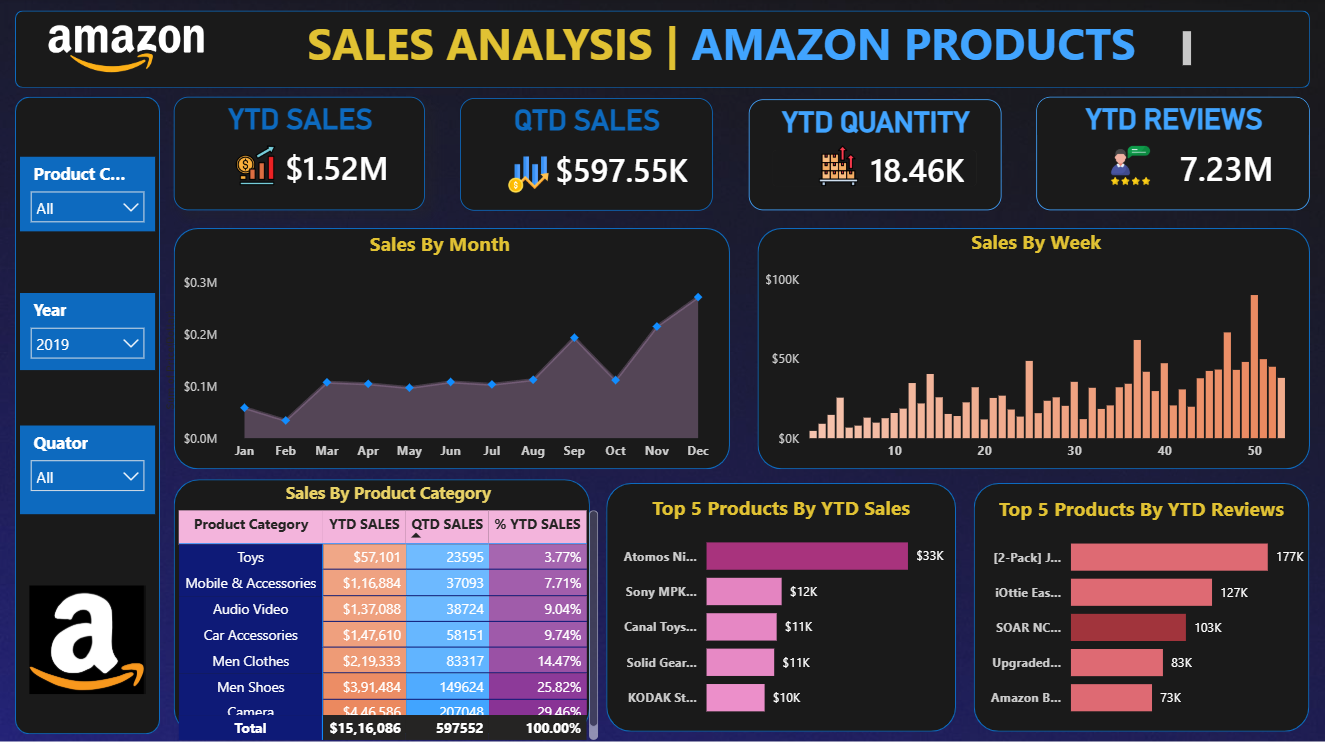

What the dashboard file says about the page in this screenshot:
{"tool":"powerbi","page":{"name":"Page 1","canvas":[1280,720],"ordinal":0},"visuals":[{"type":"shape","box":[14.5,12.1,1249.9,74.8],"z":0},{"type":"textbox","box":[292,4.8,862.6,74.8],"z":1000},{"type":"shape","box":[14.5,95.3,139.9,615.3],"z":2000},{"type":"cardVisual","title":"YTD SALES","fields":{"Data":["Amazon_Data.YTD SALES"]},"box":[167.7,95.3,242.5,109.8],"z":3000},{"type":"cardVisual","title":"QTD SALES","fields":{"Data":["Amazon_Data.QTD SALES"]},"box":[444,96.5,243.7,108.6],"z":4000},{"type":"cardVisual","title":"YTD QUANTITY","fields":{"Data":["Amazon_Data.YTD PRODUCT SOLD"]},"box":[722.7,97.7,243.7,107.4],"z":5000},{"type":"cardVisual","title":"YTD REVIEWS","fields":{"Data":["Amazon_Data.YTD REVIEWS"]},"box":[1000.1,95.3,264.2,109.8],"z":6000},{"type":"image","box":[32.6,18.1,178.6,61.5],"z":7000},{"type":"image","box":[179.8,142.4,112.3,38.6],"z":8000},{"type":"image","box":[453.6,150.8,112.3,39],"z":9000},{"type":"shape","box":[167.7,222,536.9,232.8],"z":10000},{"type":"image","box":[733.5,142.4,112.3,39],"z":11000},{"type":"areaChart","title":"Sales By Month","fields":{"Category":["Date Table.Month Name"],"Y":["Sum(Amazon_Data.Price(Dollar))"]},"box":[154.4,224.4,540.5,230.4],"z":12000},{"type":"image","box":[1037.5,142.4,83.2,38.6],"z":13000},{"type":"shape","title":"Sales By Product Category","box":[167.7,464.5,401.7,246.1],"z":14000},{"type":"shape","box":[731.1,222,533.2,232.8],"z":15000},{"type":"columnChart","title":"Sales By Week","fields":{"Category":["Date Table.Week No"],"Y":["Sum(Amazon_Data.Price(Dollar))"]},"box":[733.5,222,533.2,232.8],"z":16000},{"type":"shape","box":[584.6,467.9,337.6,240.1],"z":17000},{"type":"pivotTable","title":"Sales By Product Category","fields":{"Rows":["Amazon_Data.Product Category"],"Values":["Amazon_Data.YTD SALES1","Amazon_Data.QTD SALES","Amazon_Data.YTD SALES"]},"box":[167.4,465.2,414.4,255.2],"z":18000},{"type":"shape","box":[940,467.9,323.8,240.1],"z":19000},{"type":"barChart","title":"Top 5 Products By YTD Sales","fields":{"Category":["Amazon_Data.Product Description"],"Y":["Amazon_Data.YTD SALES"]},"box":[584.6,478.9,337.6,229.2],"z":20000},{"type":"barChart","title":"Top 5 Products By YTD Reviews","fields":{"Category":["Amazon_Data.Product Description"],"Y":["Amazon_Data.YTD REVIEWS"]},"box":[940,480.3,323.8,227.8],"z":21000},{"type":"slicer","fields":{"Values":["Amazon_Data.Product Category"]},"box":[19.3,153.2,130.3,72.4],"z":22000},{"type":"slicer","fields":{"Values":["Date Table.Year"]},"box":[19.3,284.7,130.3,74.8],"z":23000},{"type":"slicer","fields":{"Values":["Date Table.Qtr"]},"box":[19.3,412.6,130.3,85.7],"z":24000},{"type":"image","box":[9.7,567,149.6,105],"z":25000}]}

Visuals, with their boxes in screenshot pixels (x1, y1, x2, y2), scaled from the page's 1280x720 canvas onto the 1325x742 screenshot:
shape: select_region(15, 12, 1309, 90)
textbox: select_region(302, 5, 1195, 82)
shape: select_region(15, 98, 160, 732)
"YTD SALES" cardVisual: select_region(174, 98, 425, 211)
"QTD SALES" cardVisual: select_region(460, 99, 712, 211)
"YTD QUANTITY" cardVisual: select_region(748, 101, 1000, 211)
"YTD REVIEWS" cardVisual: select_region(1035, 98, 1309, 211)
image: select_region(34, 19, 219, 82)
image: select_region(186, 147, 302, 187)
image: select_region(470, 155, 586, 196)
shape: select_region(174, 229, 729, 469)
image: select_region(759, 147, 876, 187)
"Sales By Month" areaChart: select_region(160, 231, 719, 469)
image: select_region(1074, 147, 1160, 187)
"Sales By Product Category" shape: select_region(174, 479, 589, 732)
shape: select_region(757, 229, 1309, 469)
"Sales By Week" columnChart: select_region(759, 229, 1311, 469)
shape: select_region(605, 482, 955, 730)
"Sales By Product Category" pivotTable: select_region(173, 479, 602, 741)
shape: select_region(973, 482, 1308, 730)
"Top 5 Products By YTD Sales" barChart: select_region(605, 494, 955, 730)
"Top 5 Products By YTD Reviews" barChart: select_region(973, 495, 1308, 730)
slicer - Amazon_Data.Product Category: select_region(20, 158, 155, 232)
slicer - Date Table.Year: select_region(20, 293, 155, 370)
slicer - Date Table.Qtr: select_region(20, 425, 155, 514)
image: select_region(10, 584, 165, 693)
